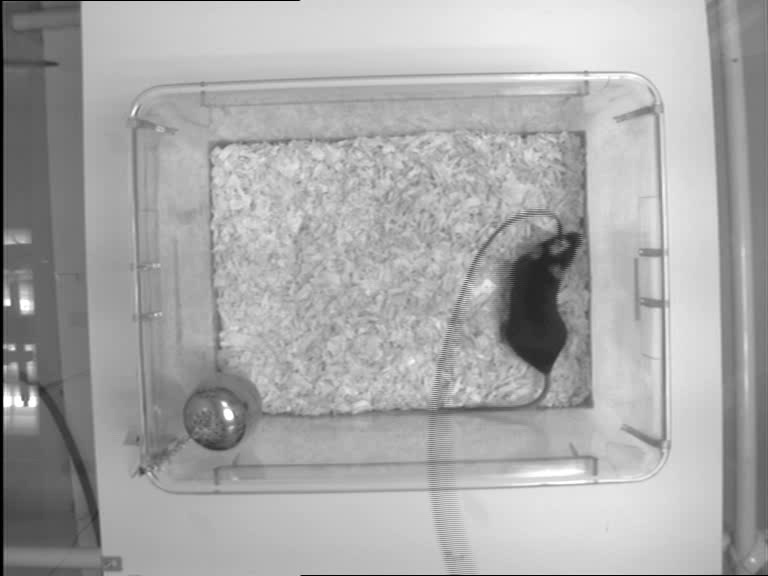mice: (445, 234, 583, 420)
